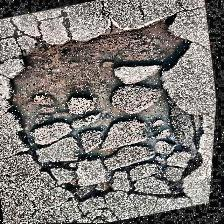pothole: (0, 8, 224, 224)
